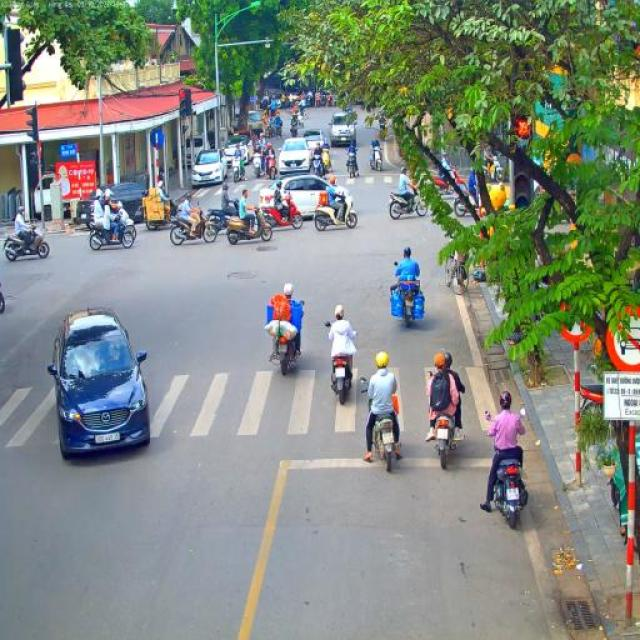car: (47, 306, 152, 460), (258, 172, 354, 222), (76, 182, 150, 229), (275, 136, 314, 179), (192, 148, 228, 188), (328, 109, 358, 147), (220, 134, 250, 166), (302, 129, 328, 157), (232, 129, 254, 155)
motorcycle: (484, 406, 530, 529), (422, 370, 464, 470), (359, 377, 402, 472), (323, 320, 357, 404), (269, 300, 305, 376), (390, 261, 426, 328), (86, 208, 135, 252), (166, 207, 219, 246), (225, 204, 274, 244), (3, 222, 51, 262), (313, 191, 358, 231), (142, 194, 183, 231), (388, 184, 430, 220), (260, 197, 304, 231), (205, 197, 241, 238), (432, 166, 468, 198), (453, 187, 479, 217), (482, 154, 504, 182), (120, 208, 138, 242), (264, 154, 280, 180), (230, 156, 245, 183), (346, 151, 360, 179), (251, 152, 265, 179), (370, 147, 384, 172), (320, 148, 332, 177), (310, 154, 324, 178), (290, 116, 300, 139), (378, 120, 388, 140), (272, 122, 283, 140), (266, 120, 275, 138), (296, 114, 304, 128), (306, 96, 313, 108), (324, 96, 330, 108), (315, 96, 320, 108)
truck: (246, 111, 264, 137)
